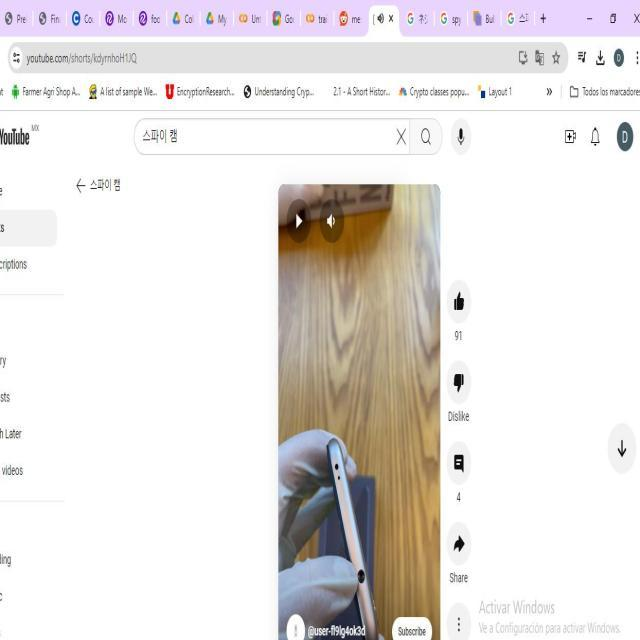hidden camera: (353, 561, 368, 583)
